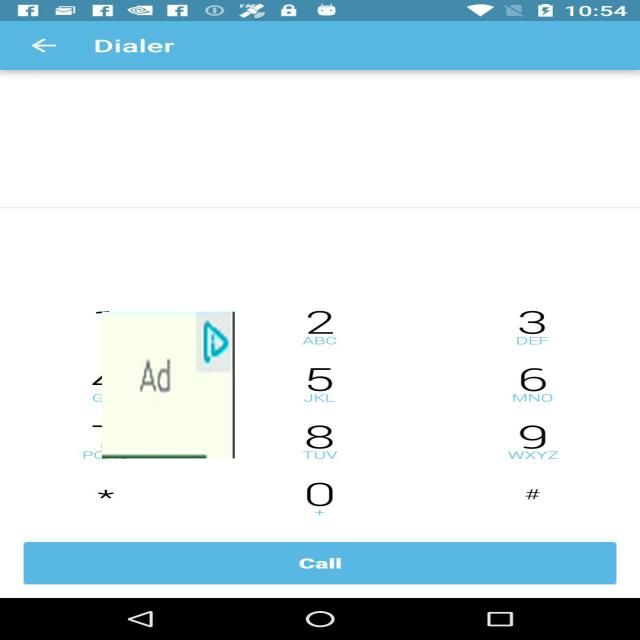sneaking: (102, 312, 235, 458)
